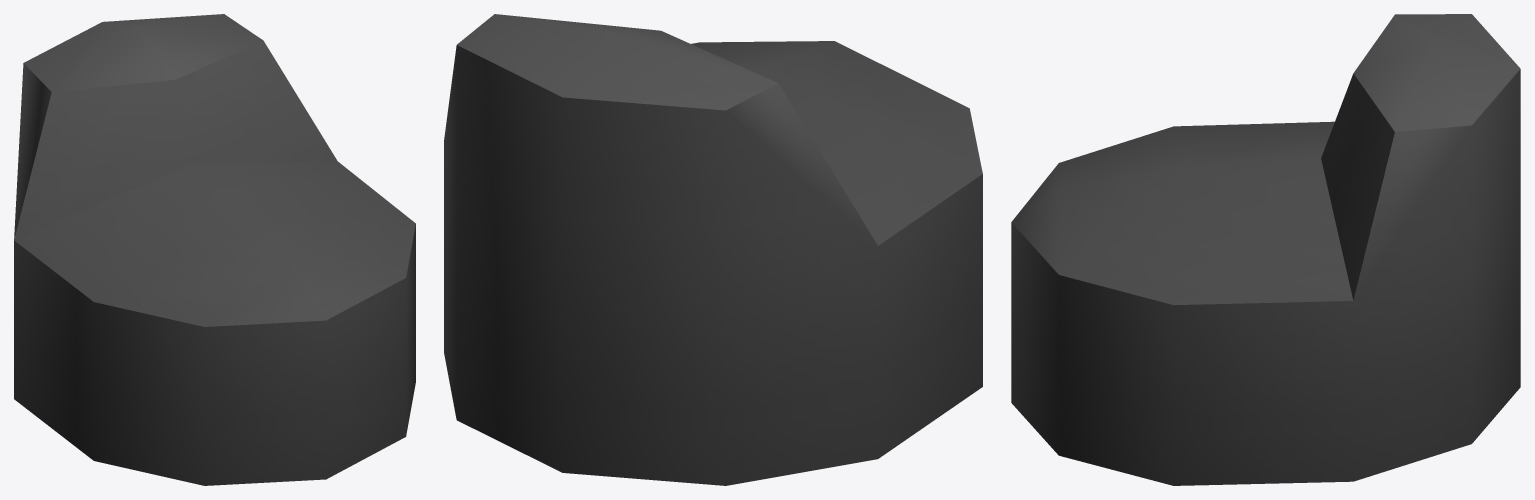
File: I_hat_1_lvl.fbx
The picture shows the model from 3 angles, left to right: view 1: azimuth 30°, elevation 25°; view 2: azimuth 150°, elevation 25°; view 3: azimuth 270°, elevation 25°; orthographic projection. The views are drawn at different scales.
Visible parts, largest first — view 1: I_hat_1_lvl; view 2: I_hat_1_lvl; view 3: I_hat_1_lvl.
Part boxes in pixels (x1,y1,x2,y2): I_hat_1_lvl: [14, 14, 415, 485]; I_hat_1_lvl: [444, 14, 982, 485]; I_hat_1_lvl: [1011, 14, 1520, 485].
Size of the model in its own units: 0.5408 by 0.5078 by 0.6475.
